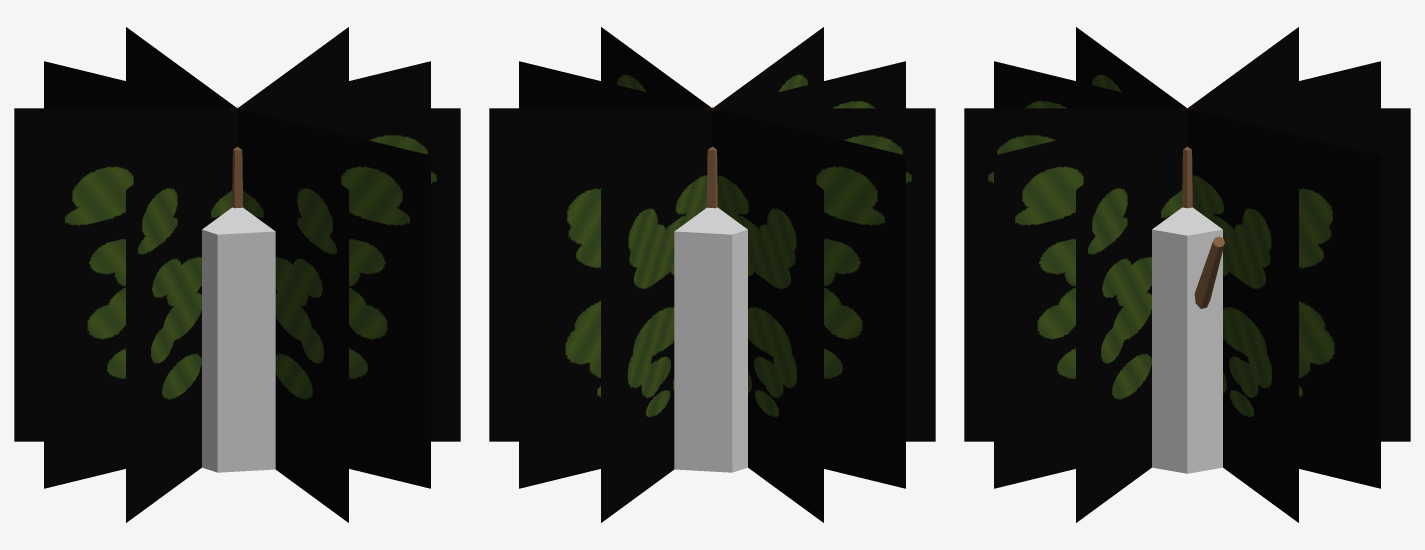
The model's file is DryShrub.glb.
The picture shows the model from 3 angles, left to right: view 1: azimuth 30°, elevation 25°; view 2: azimuth 150°, elevation 25°; view 3: azimuth 270°, elevation 25°; orthographic projection.
Visible parts, largest first — view 1: DryShrubFoliage_LOD0, DryShrub_COL, DryShrubBranches_LOD0; view 2: DryShrubFoliage_LOD0, DryShrub_COL, DryShrubBranches_LOD0; view 3: DryShrubFoliage_LOD0, DryShrub_COL, DryShrubBranches_LOD0.
Part boxes in pixels (bbox=[...]): DryShrubFoliage_LOD0: bbox=[14, 27, 460, 522]; DryShrub_COL: bbox=[202, 207, 275, 472]; DryShrubBranches_LOD0: bbox=[232, 146, 243, 208]; DryShrubFoliage_LOD0: bbox=[489, 27, 935, 522]; DryShrub_COL: bbox=[674, 207, 747, 472]; DryShrubBranches_LOD0: bbox=[706, 146, 717, 208]; DryShrubFoliage_LOD0: bbox=[964, 27, 1410, 522]; DryShrub_COL: bbox=[1152, 207, 1222, 473]; DryShrubBranches_LOD0: bbox=[1182, 146, 1224, 308].
Size of what is drawn, in the model's own units: 8.5 by 7 by 8.5.
Materials: 2 (1 with a texture image).
